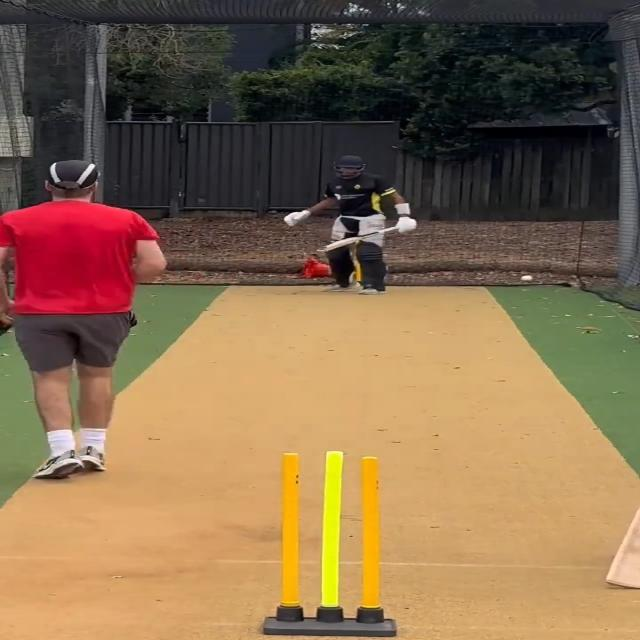ball: (520, 274, 534, 282)
stump: (262, 448, 400, 640)
